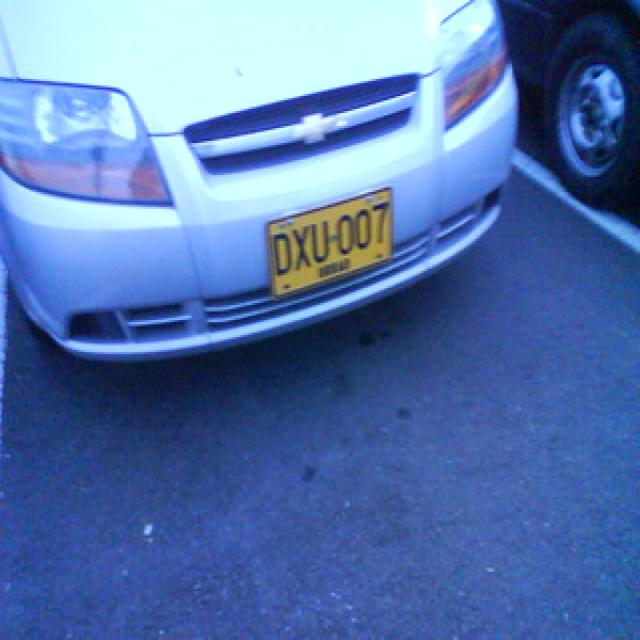placa_carro: (265, 183, 399, 301)
